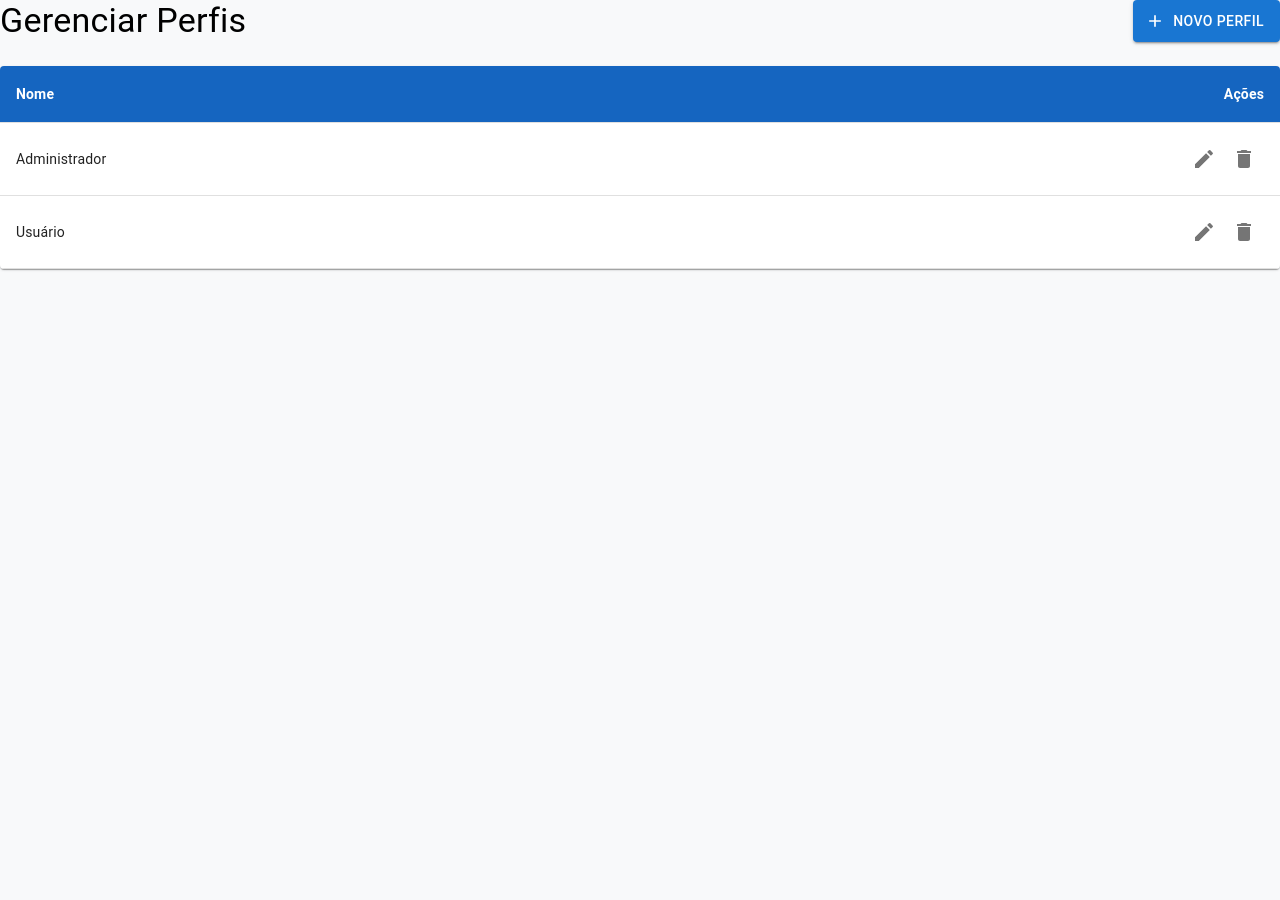
ADMIN - Profiles CRUD › Edição de Perfil › deve abrir modal de edição com dados corretos
The image size is (1280, 900).
Expected: the text "Administrador" is shown, [0,122,668,196]
Click the 1st button with test id "edit-button": coordinates (1204, 159) [1184,139,1224,179]
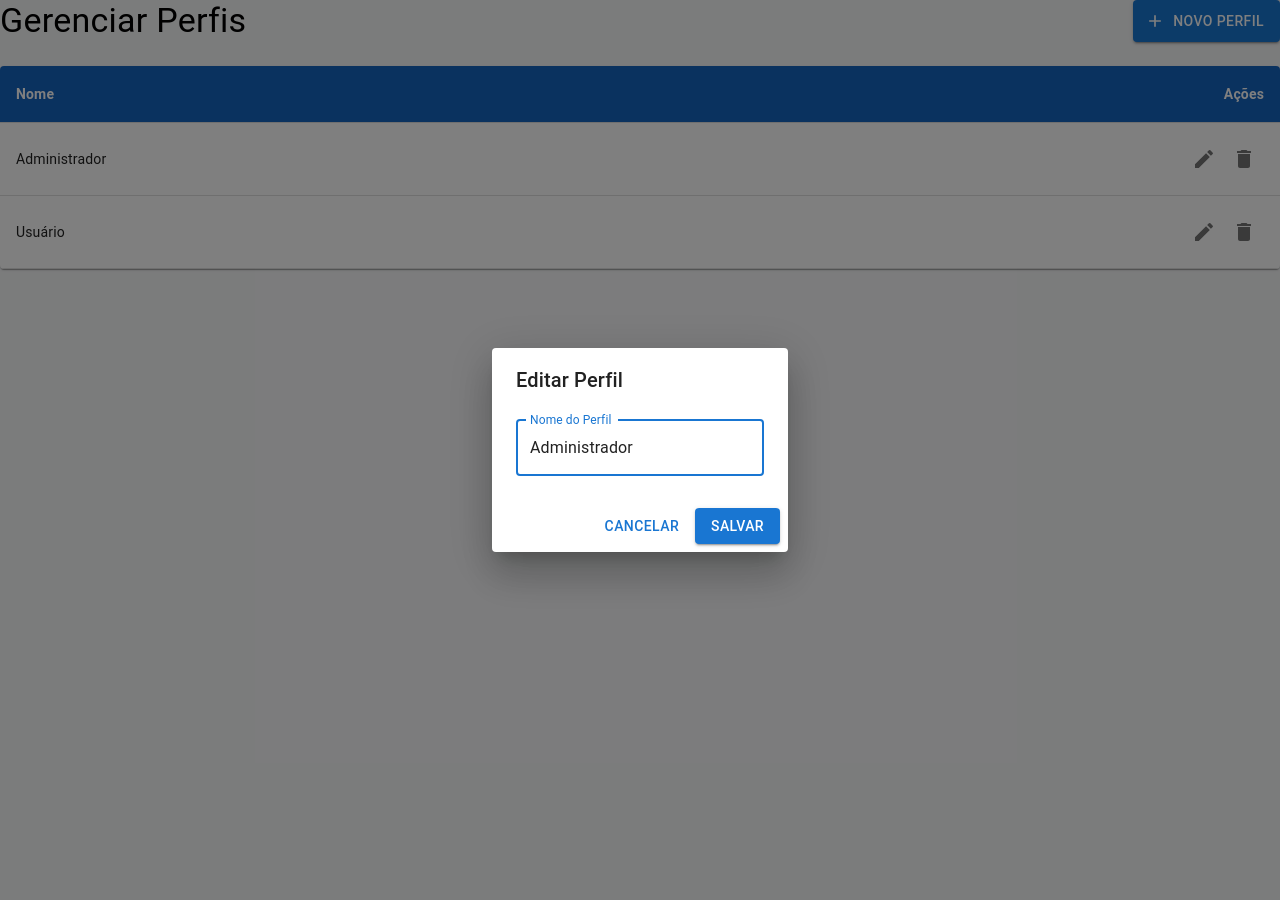
Now the field showing "Administrador" is shown, box [516,420,764,476]
